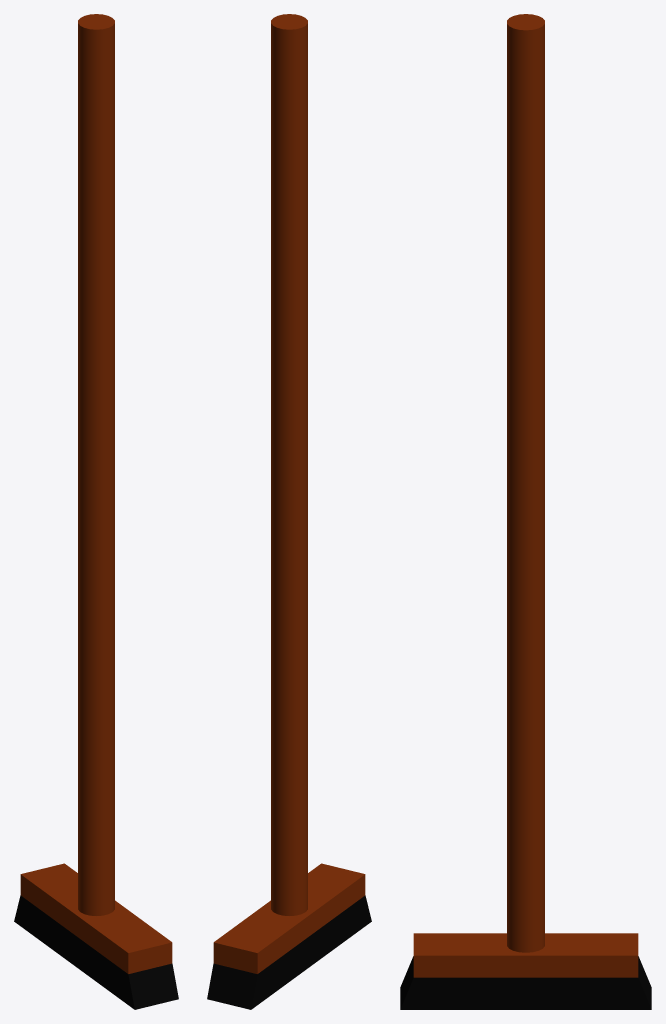
Rendered from Broomstick.FBX.
3 views of the same model, side by side, from view 1: azimuth 30°, elevation 25°; view 2: azimuth 150°, elevation 25°; view 3: azimuth 270°, elevation 25° (orthographic). The views are drawn at different scales.
Parts seen in each view (by area): view 1: Cylinder001; view 2: Cylinder001; view 3: Cylinder001.
Boxes of the visible parts, x1,y1,x2,y2 form: Cylinder001: (14,14,178,1009); Cylinder001: (207,14,371,1009); Cylinder001: (400,14,651,1009).
Bounding box in the file's own units: 7.44 × 151 × 35.31.
